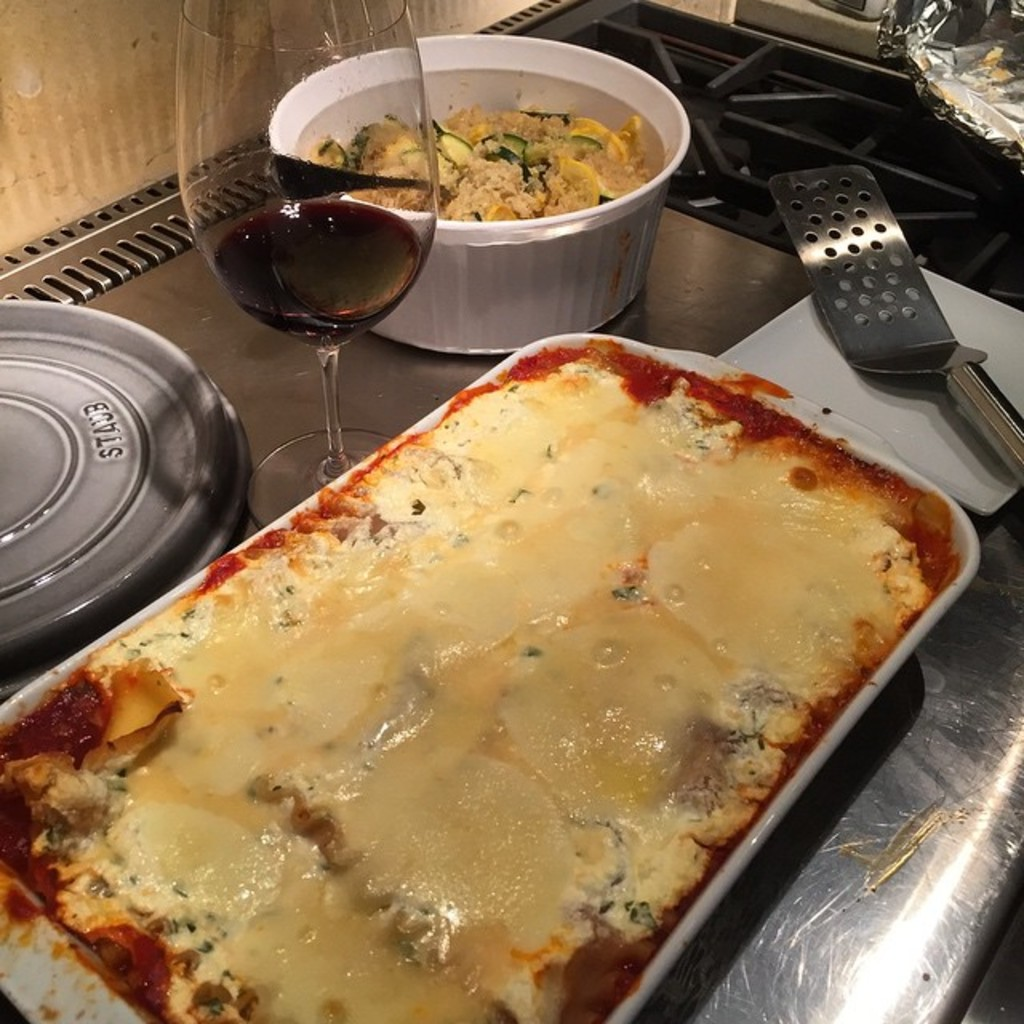Pizza: (0, 318, 971, 1022)
